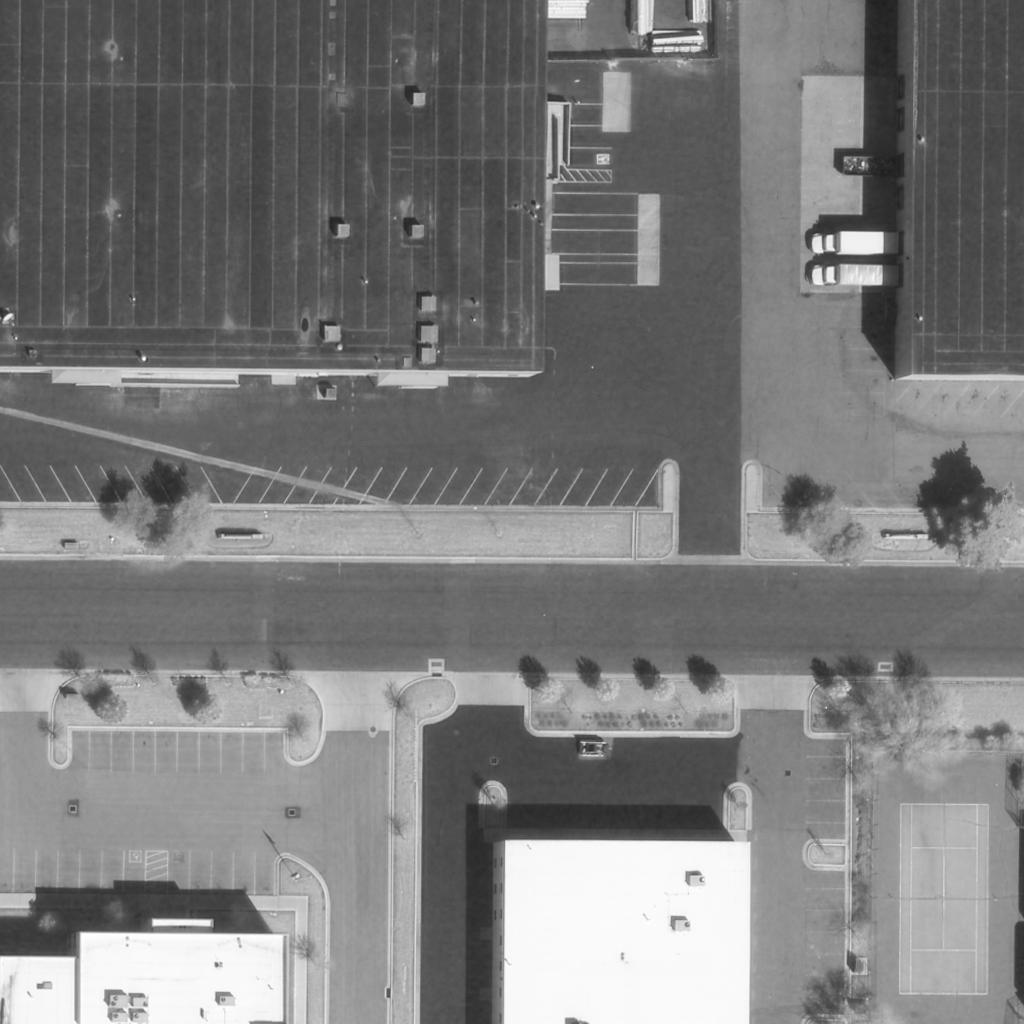vehicle: (811, 231, 901, 255), (812, 265, 902, 289)
